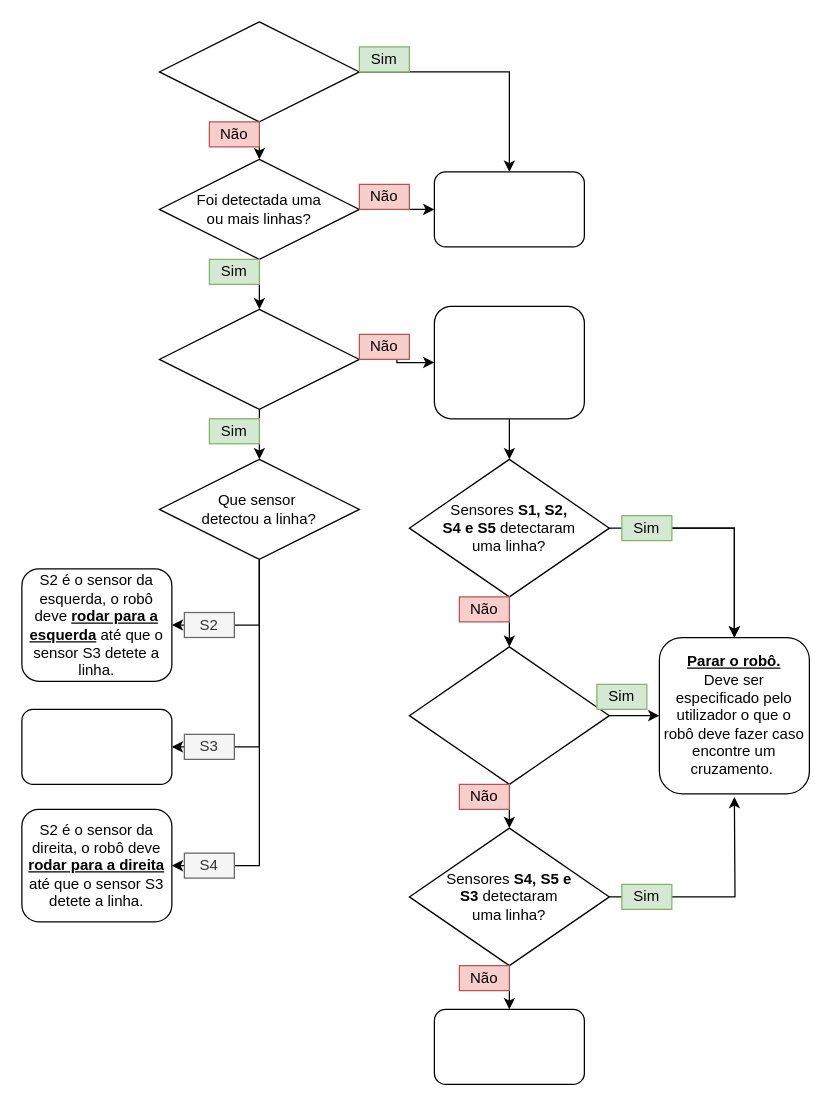
This 831x1106 diagram has some shape labels left out. Here are the shapes that lost their labels. From the top down, the centre of each, then its label:
At pixel 258 71: "Há obstáculos?".
At pixel 508 209: "Parar o robô".
At pixel 258 358: "Apenas um sensor detectou uma linha?".
At pixel 508 362: "Mais que um sensor detectou uma linha, será que encontrámos um cruzamento?".
At pixel 508 715: "Sensores S1, S2 e S3 detectaram uma linha?".
At pixel 96 746: "S3 é o sensor do meio, o robô deve seguir em frente".
At pixel 508 1046: "(deixar o robô continuar o movimento atual)".
